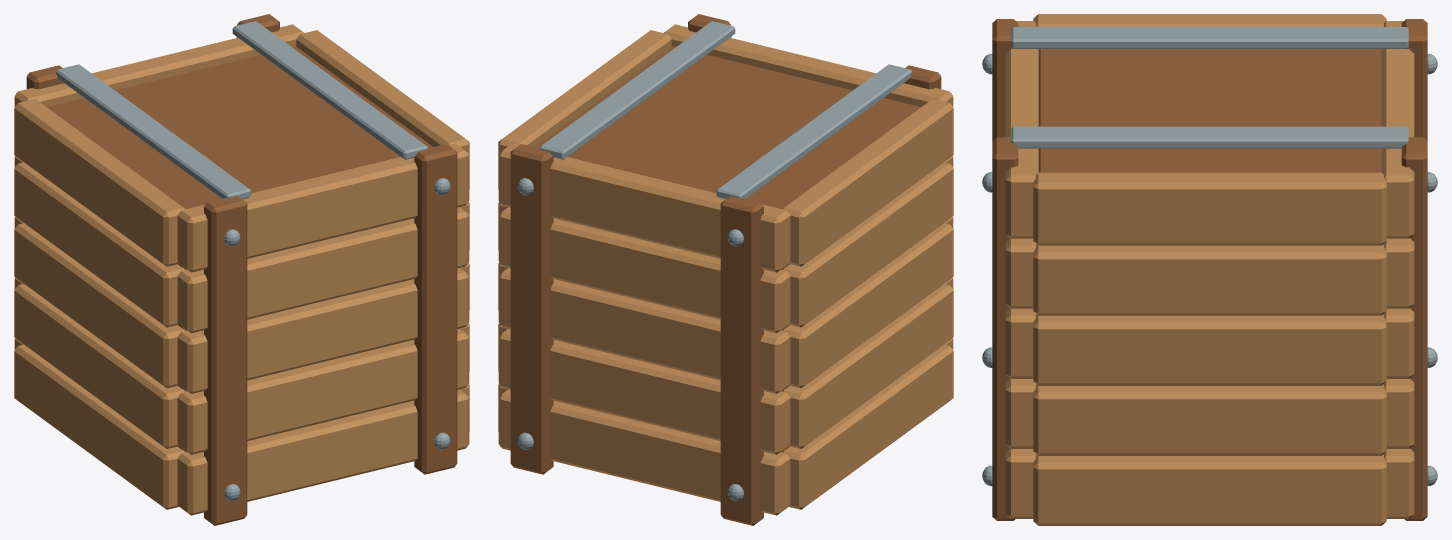
Rendered from CargoCrate.fbx.
3 views of the same model, side by side, from view 1: azimuth 30°, elevation 25°; view 2: azimuth 150°, elevation 25°; view 3: azimuth 270°, elevation 25° (orthographic). The views are drawn at different scales.
Parts seen in each view (by area): view 1: Crate interior, Front plank.004, Front plank.002, Front plank.003, Front plank, Front plank.001, Corner batten, Corner batten.002, Side plank.008, Side plank, Side plank.004, Side plank.002 (+6 smaller); view 2: Crate interior, Back plank.004, Back plank.002, Back plank.003, Back plank, Back plank.001, Corner batten.001, Corner batten.003, Side plank.008, Side plank, Side plank.004, Side plank.002 (+6 smaller); view 3: Crate interior, Side plank.009, Side plank.005, Side plank.007, Side plank.001, Side plank.003, Lid strap.001, Lid strap, Corner batten.002, Corner batten.003, Back plank.004, Front plank.004 (+11 smaller).
Part boxes in pixels (box(x1,y1,x2,y2)): Crate interior: box(47, 46, 432, 452); Front plank.004: box(177, 143, 469, 272); Front plank.002: box(177, 268, 469, 393); Front plank.003: box(177, 207, 469, 333); Front plank: box(177, 389, 469, 515); Front plank.001: box(177, 328, 469, 454); Corner batten: box(204, 196, 247, 525); Corner batten.002: box(414, 144, 457, 474); Side plank.008: box(14, 99, 185, 266); Side plank: box(14, 344, 185, 509); Side plank.004: box(14, 223, 185, 388); Side plank.002: box(14, 284, 185, 448); Crate interior: box(535, 46, 920, 452); Back plank.004: box(498, 143, 790, 272); Back plank.002: box(498, 268, 790, 393); Back plank.003: box(498, 207, 790, 333); Back plank: box(498, 389, 790, 515); Back plank.001: box(498, 328, 790, 454); Corner batten.001: box(720, 196, 763, 525); Corner batten.003: box(510, 144, 553, 474); Side plank.008: box(782, 99, 953, 266); Side plank: box(782, 344, 953, 509); Side plank.004: box(782, 223, 953, 388); Side plank.002: box(782, 284, 953, 448); Crate interior: box(1038, 49, 1381, 172); Side plank.009: box(1033, 172, 1386, 245); Side plank.005: box(1033, 314, 1386, 385); Side plank.007: box(1033, 244, 1386, 315); Side plank.001: box(1033, 454, 1386, 525); Side plank.003: box(1033, 384, 1386, 455); Lid strap.001: box(1011, 126, 1408, 148); Lid strap: box(1011, 27, 1408, 48); Corner batten.002: box(992, 137, 1018, 520); Corner batten.003: box(1401, 137, 1427, 520); Back plank.004: box(1381, 21, 1414, 238); Front plank.004: box(1005, 21, 1038, 238).
Bounding box in the file's own units: 0.555 × 0.5555 × 0.6189.
